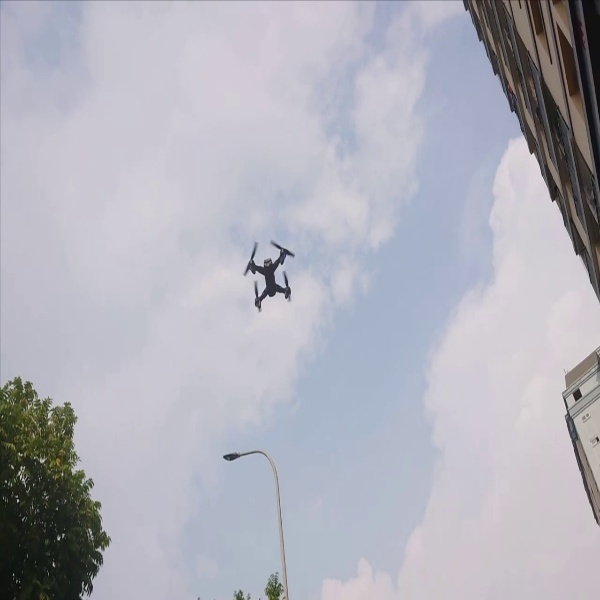drone: (223, 233, 318, 315)
